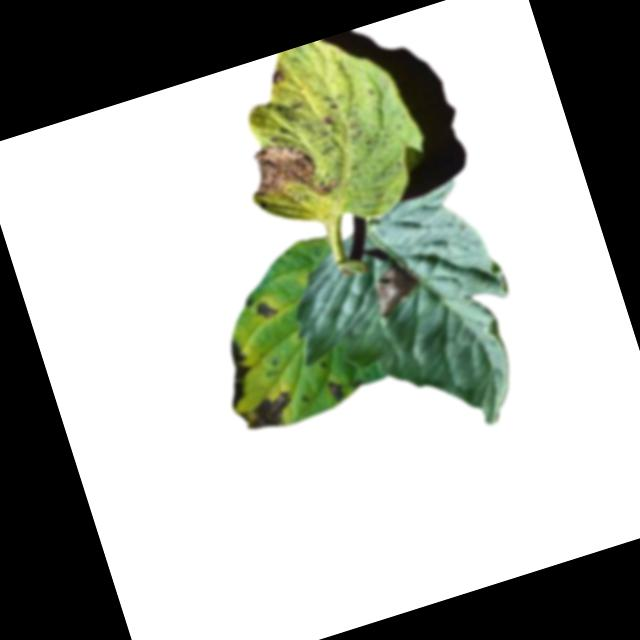Early_blight: (238, 129, 341, 218), (364, 258, 425, 320), (211, 338, 261, 410), (233, 388, 300, 439), (253, 299, 284, 325), (265, 63, 290, 92), (325, 377, 348, 405)
